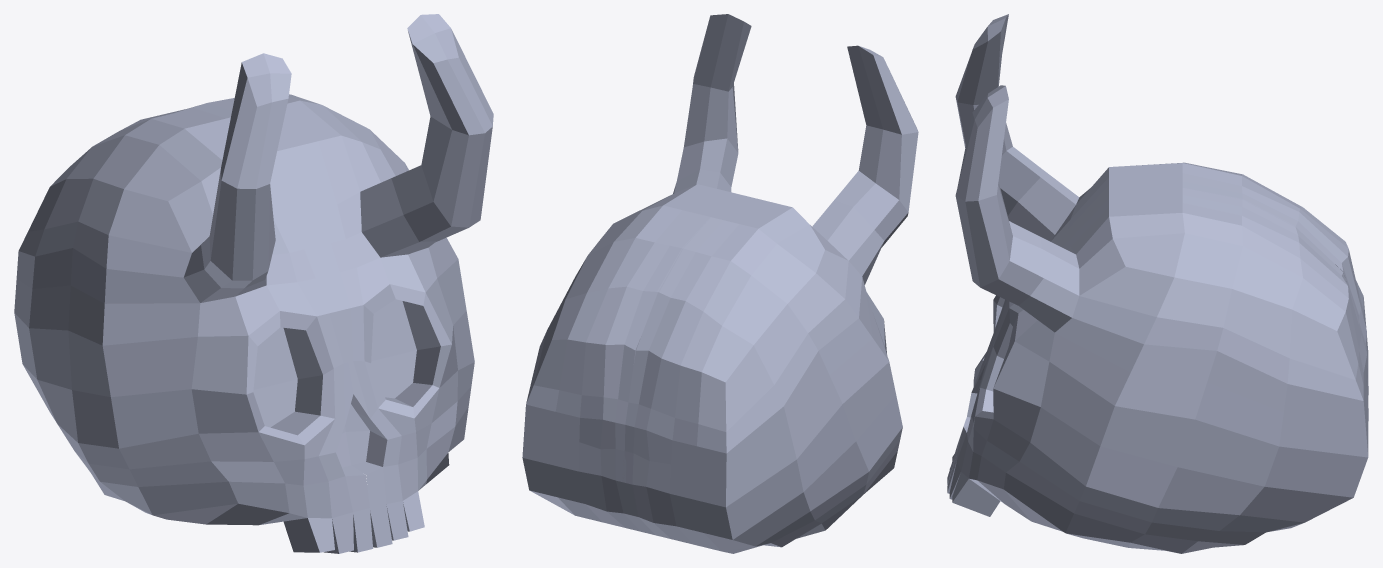
The model's file is tengkorak.fbx.
3 renders of one model, left to right at view 1: azimuth 30°, elevation 25°; view 2: azimuth 150°, elevation 25°; view 3: azimuth 270°, elevation 25°, orthographic. The views are drawn at different scales.
Parts seen in each view (by area): view 1: tengkorak; view 2: tengkorak; view 3: tengkorak.
Boxes of the visible parts, bbox=[...] form: tengkorak: bbox=[14, 14, 493, 553]; tengkorak: bbox=[522, 14, 918, 553]; tengkorak: bbox=[947, 14, 1368, 553].
Bounding box in the file's own units: 481 × 658 × 557.
Materials: 1 (1 with a texture image).
